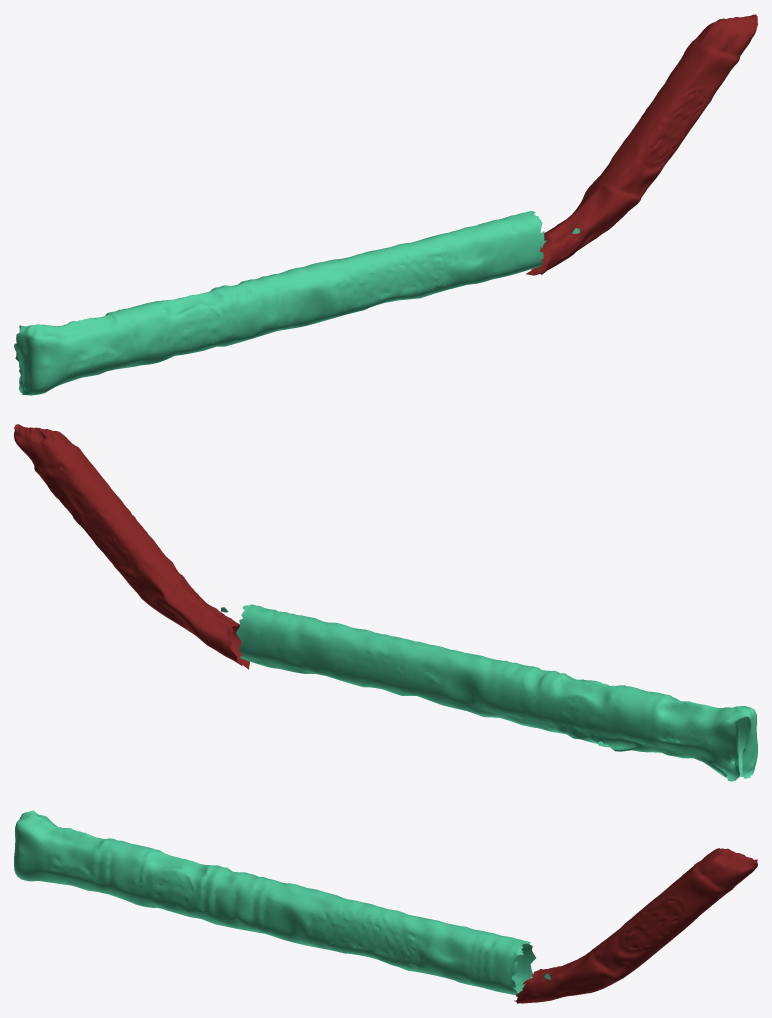
The model's file is object_deformed_2.obj.
3 renders of one model, top to bottom at view 1: azimuth 30°, elevation 25°; view 2: azimuth 150°, elevation 25°; view 3: azimuth 330°, elevation 25°, orthographic. The views are drawn at different scales.
Size of the model in its own units: 0.5942 by 0.1529 by 0.0484.
